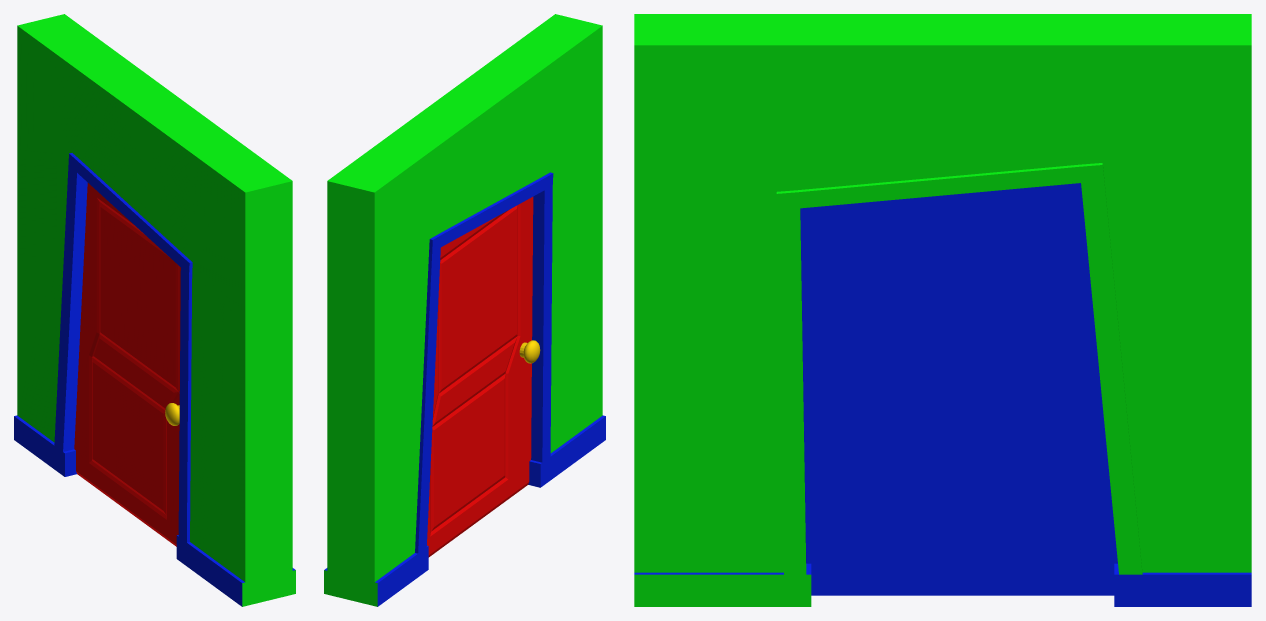
File: WalldoorPrincipal.FBX
The picture shows the model from 3 angles, left to right: view 1: azimuth 30°, elevation 25°; view 2: azimuth 150°, elevation 25°; view 3: azimuth 270°, elevation 25°; orthographic projection. The views are drawn at different scales.
Visible parts, largest first — view 1: WalldoorPrincipal001; view 2: WalldoorPrincipal001; view 3: WalldoorPrincipal001.
Part boxes in pixels (left/top/right/bottom): WalldoorPrincipal001: left=14, top=14, right=295, bottom=606; WalldoorPrincipal001: left=324, top=14, right=605, bottom=606; WalldoorPrincipal001: left=634, top=14, right=1251, bottom=606.
Size of the model in its own units: 54.08 by 375 by 375.
